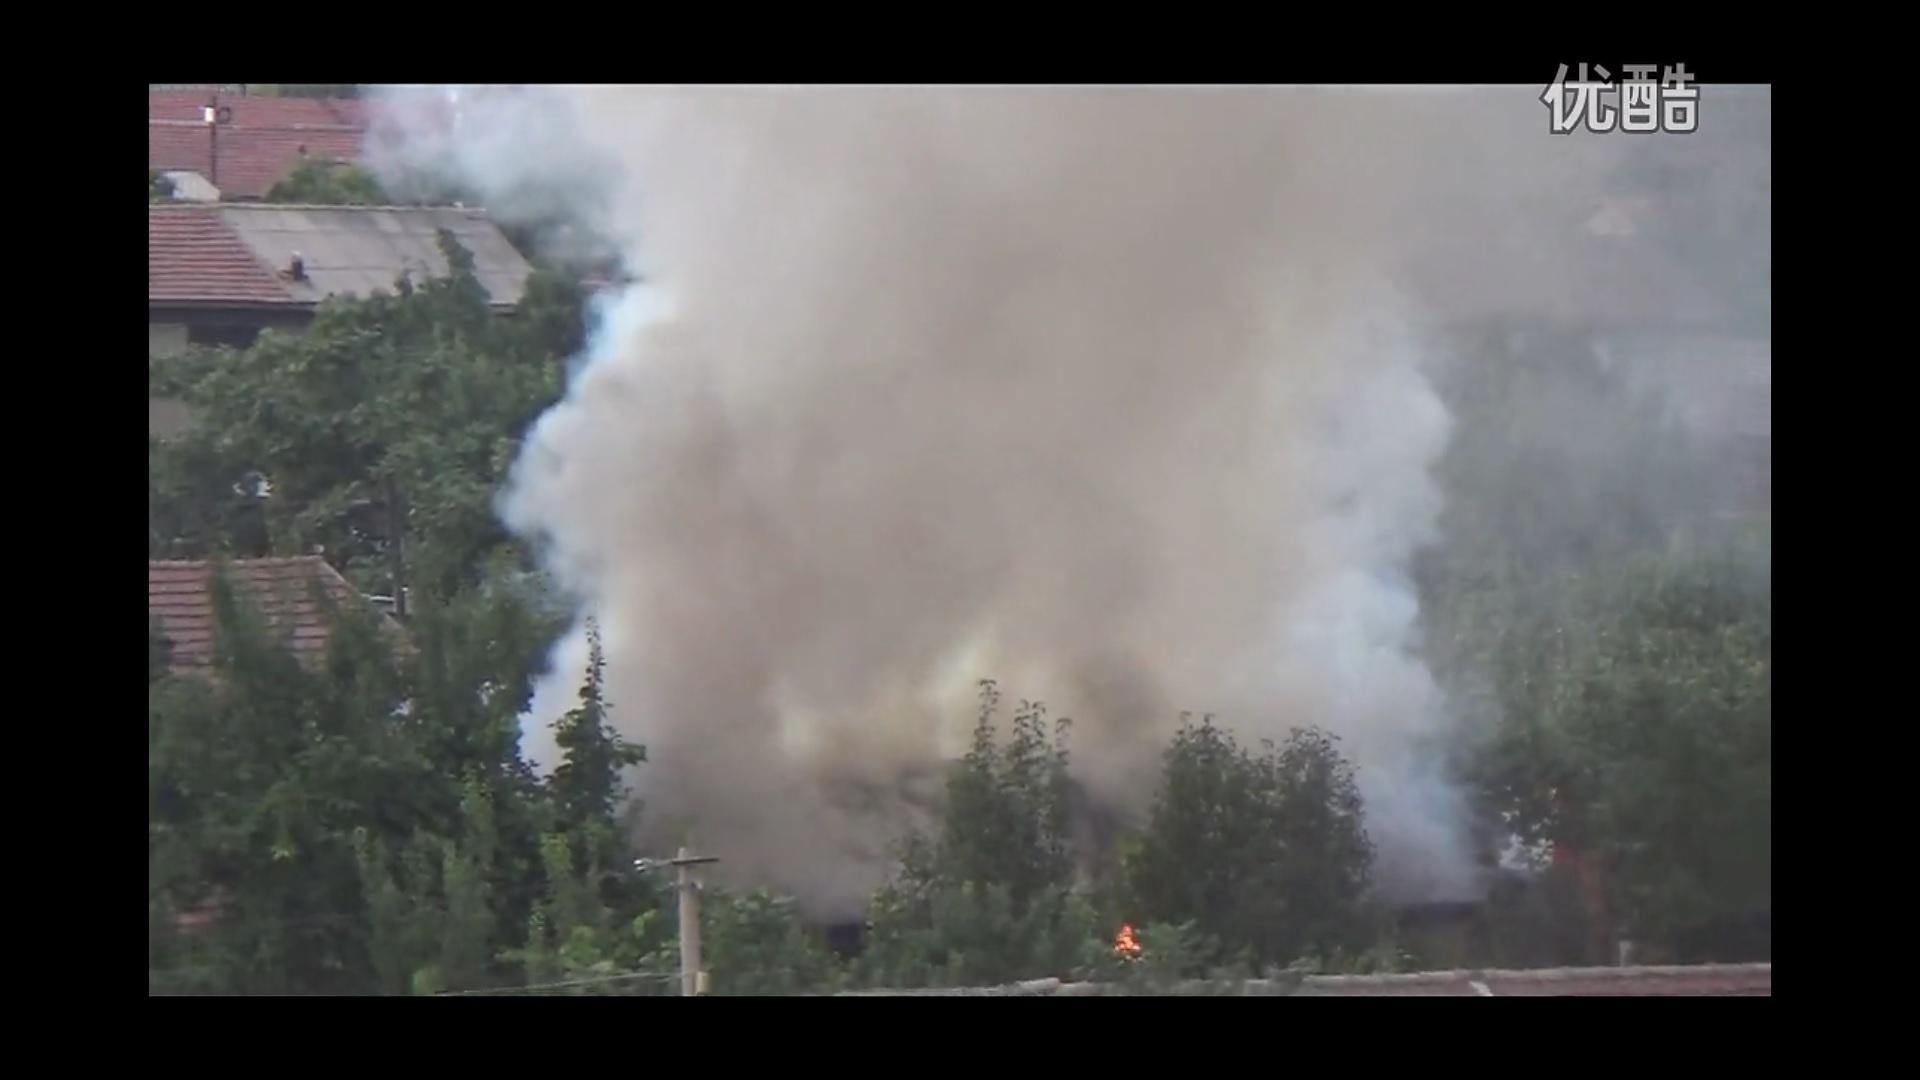fire: (1112, 919, 1145, 957)
